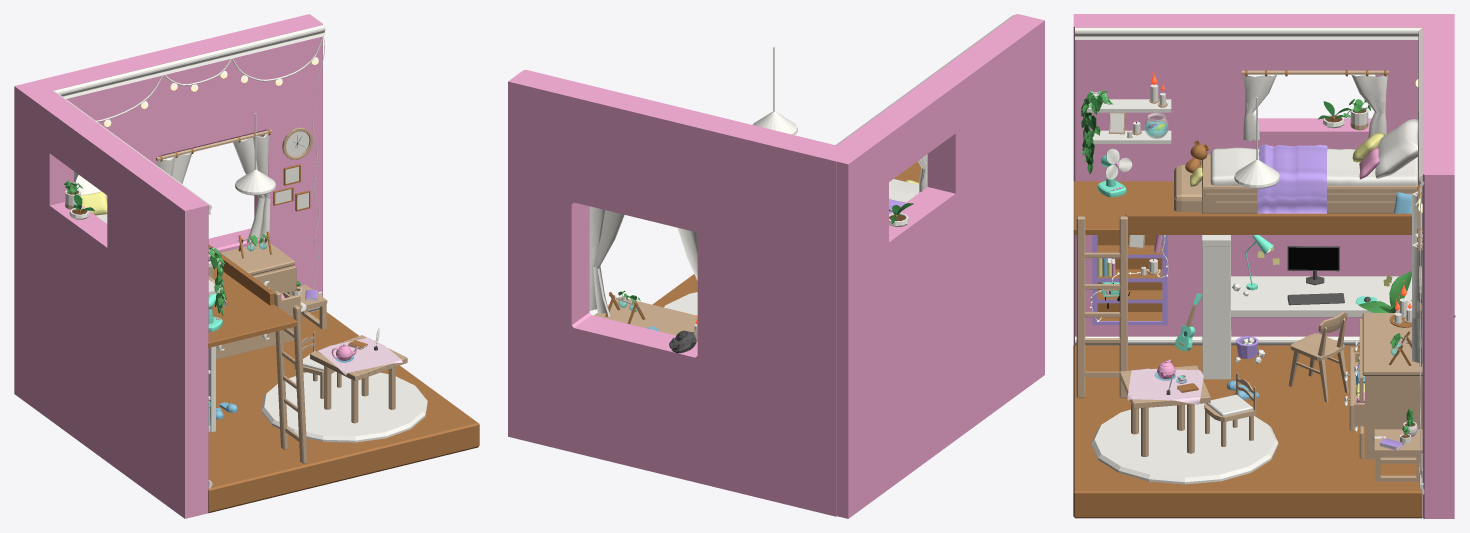
File: Room.fbx
3 renders of one model, left to right at view 1: azimuth 30°, elevation 25°; view 2: azimuth 150°, elevation 25°; view 3: azimuth 270°, elevation 25°, orthographic. The views are drawn at different scales.
Parts seen in each view (by area): view 1: Wall_Base.002, Wall_Base, Floor, Table_Base, Bed_Base, Detail_Top, Commode_Base, Ladder, Curtains_Base, Table, Tablecloth, Base_1 (+4 smaller); view 2: Wall_Base, Wall_Base.002, Curtains_Base, Commode_Base, Base_1; view 3: Wall_Base.002, Floor, Wall_Base, Bed_Base, Table_Base, Commode_Base, Desk, Detail_Top.001, Ladder, BedSheet, Shelf, Bed (+30 smaller).
Boxes of the visible parts, x1,y1,x2,y2 form: Wall_Base.002: (14, 80, 208, 518); Wall_Base: (38, 14, 322, 296); Floor: (208, 310, 479, 513); Table_Base: (261, 371, 427, 442); Bed_Base: (208, 244, 297, 347); Detail_Top: (53, 24, 325, 98); Commode_Base: (216, 241, 296, 359); Ladder: (274, 291, 307, 463); Curtains_Base: (157, 133, 270, 239); Table: (310, 335, 407, 423); Tablecloth: (317, 337, 402, 375); Base_1: (235, 113, 275, 195); Wall_Base: (508, 70, 836, 516); Wall_Base.002: (820, 14, 1044, 518); Curtains_Base: (589, 206, 697, 336); Commode_Base: (594, 296, 697, 335); Base_1: (752, 46, 797, 135); Wall_Base.002: (1073, 14, 1454, 344); Floor: (1073, 344, 1422, 518); Wall_Base: (1422, 27, 1454, 518); Bed_Base: (1073, 181, 1411, 234); Table_Base: (1091, 403, 1278, 484); Commode_Base: (1358, 313, 1422, 459); Desk: (1231, 276, 1411, 317); Detail_Top.001: (1075, 27, 1421, 39); Ladder: (1076, 216, 1127, 398); BedSheet: (1257, 144, 1327, 213); Shelf: (1202, 235, 1230, 379); Bed: (1202, 111, 1419, 213).
Bounding box in the file's own units: 104 × 103 × 104.
